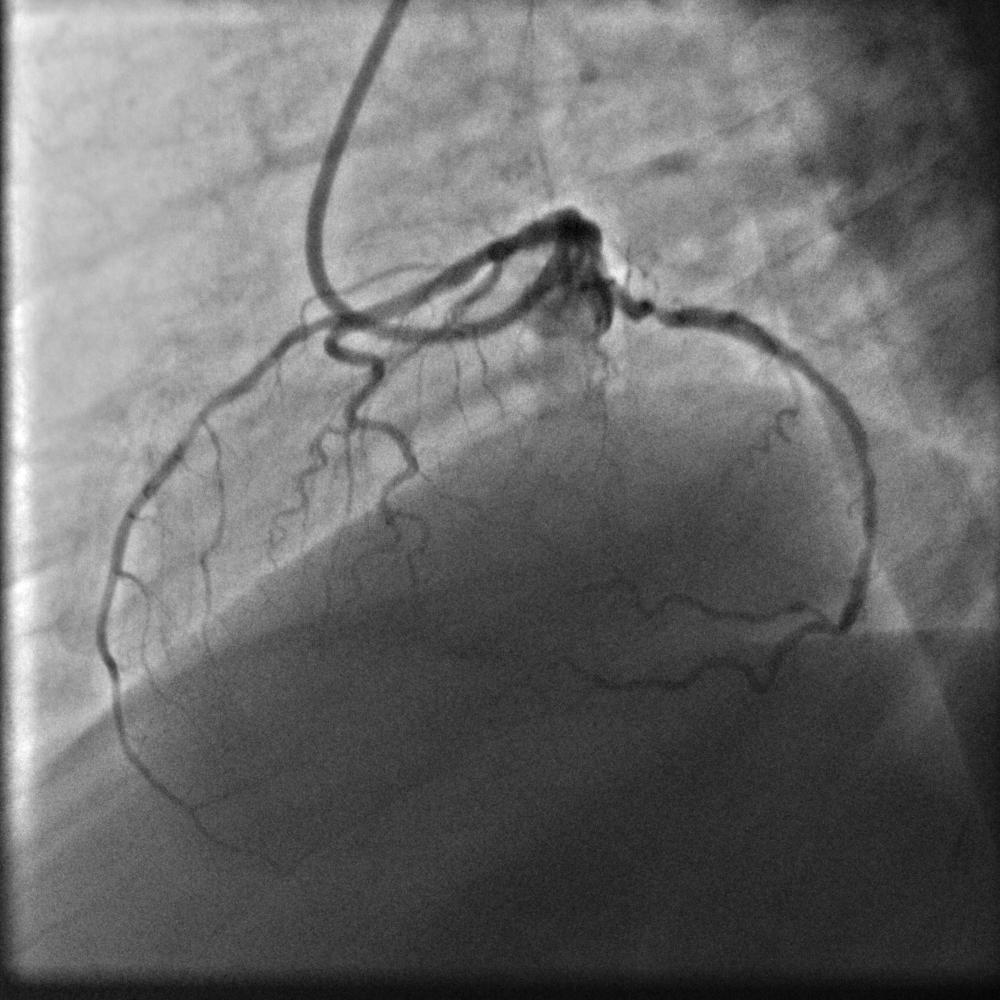Stenosis: (651, 300, 668, 326)
